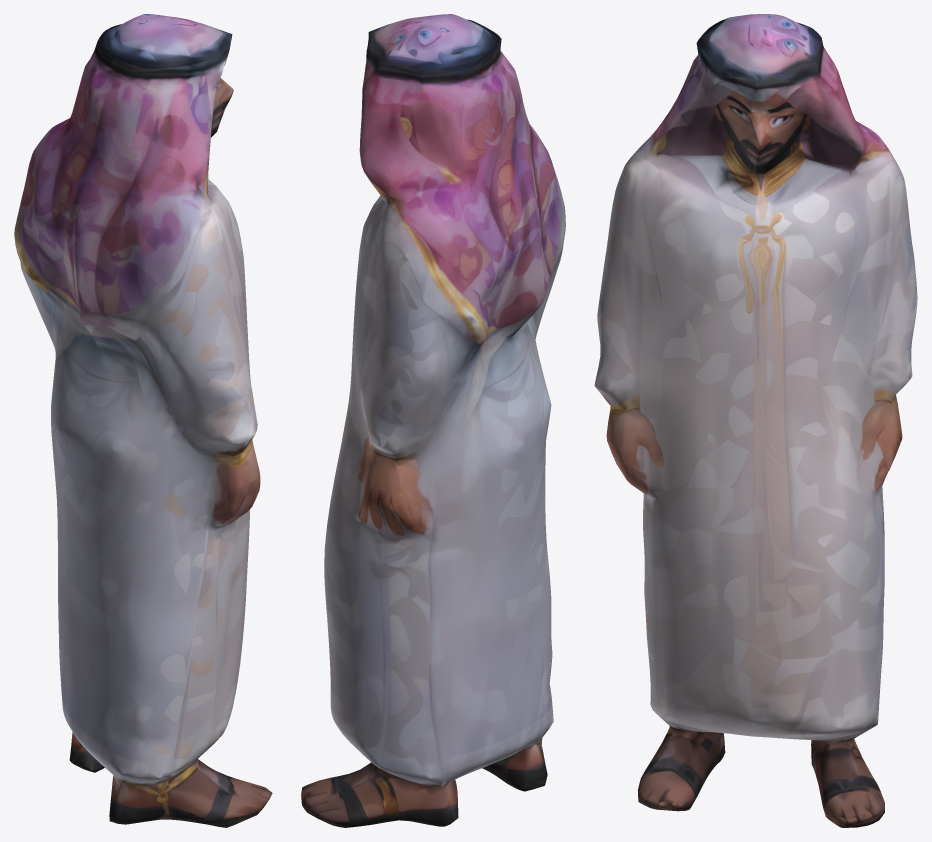
The model's file is king.glb.
The picture shows the model from 3 angles, left to right: view 1: azimuth 30°, elevation 25°; view 2: azimuth 150°, elevation 25°; view 3: azimuth 270°, elevation 25°; orthographic projection.
Parts seen in each view (by area): view 1: mesh_0; view 2: mesh_0; view 3: mesh_0.
Boxes of the visible parts, <box> form: mesh_0: <box>14,14,272,827</box>; mesh_0: <box>301,14,565,827</box>; mesh_0: <box>594,14,917,827</box>.
Size of the model in its own units: 0.3006 by 1.2 by 0.4532.
1 material, 1 textured.
